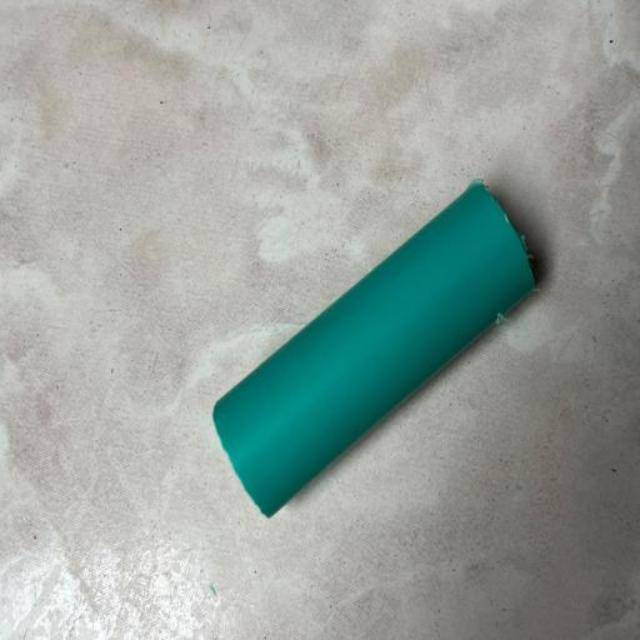PVC: (153, 167, 571, 542)
